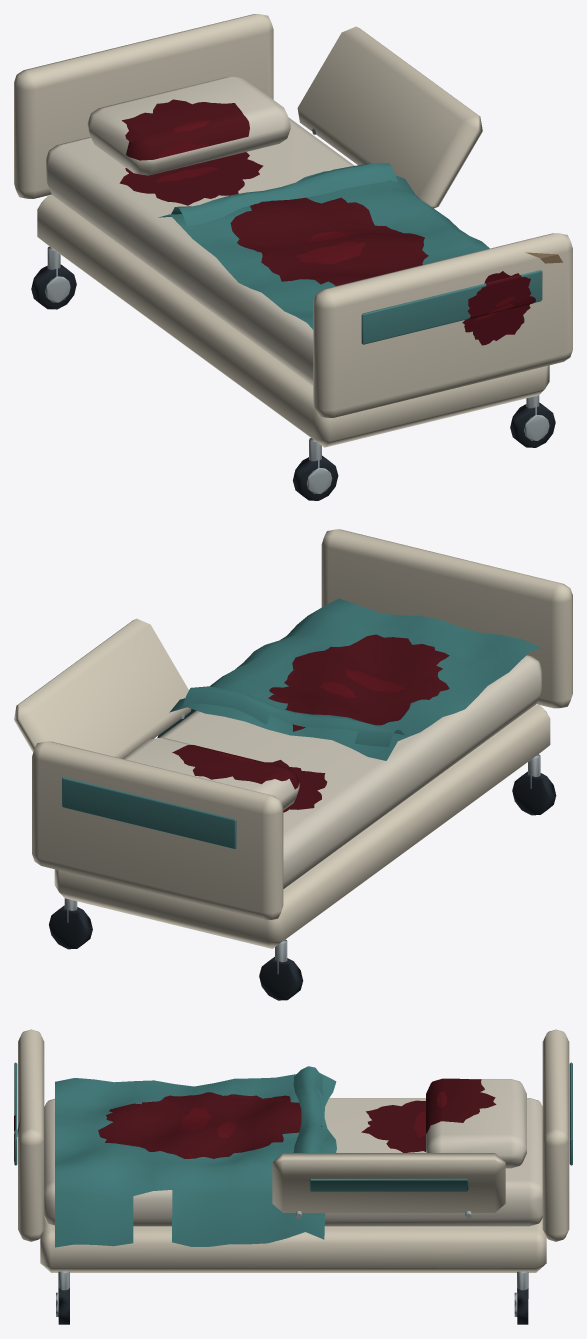
File: recovery_bed_open_nx.glb
The picture shows the model from 3 angles, top to bottom: view 1: azimuth 30°, elevation 25°; view 2: azimuth 150°, elevation 25°; view 3: azimuth 270°, elevation 25°; orthographic projection. The views are drawn at different scales.
Visible parts, largest first — view 1: recovery_bed_open_nx; view 2: recovery_bed_open_nx; view 3: recovery_bed_open_nx.
Boxes of the visible parts, x1,y1,x2,y2 form: recovery_bed_open_nx: (14,14,572,500); recovery_bed_open_nx: (14,529,572,1000); recovery_bed_open_nx: (14,1029,572,1324).
Bounding box in the file's own units: 1.19 × 0.82 × 2.11.
